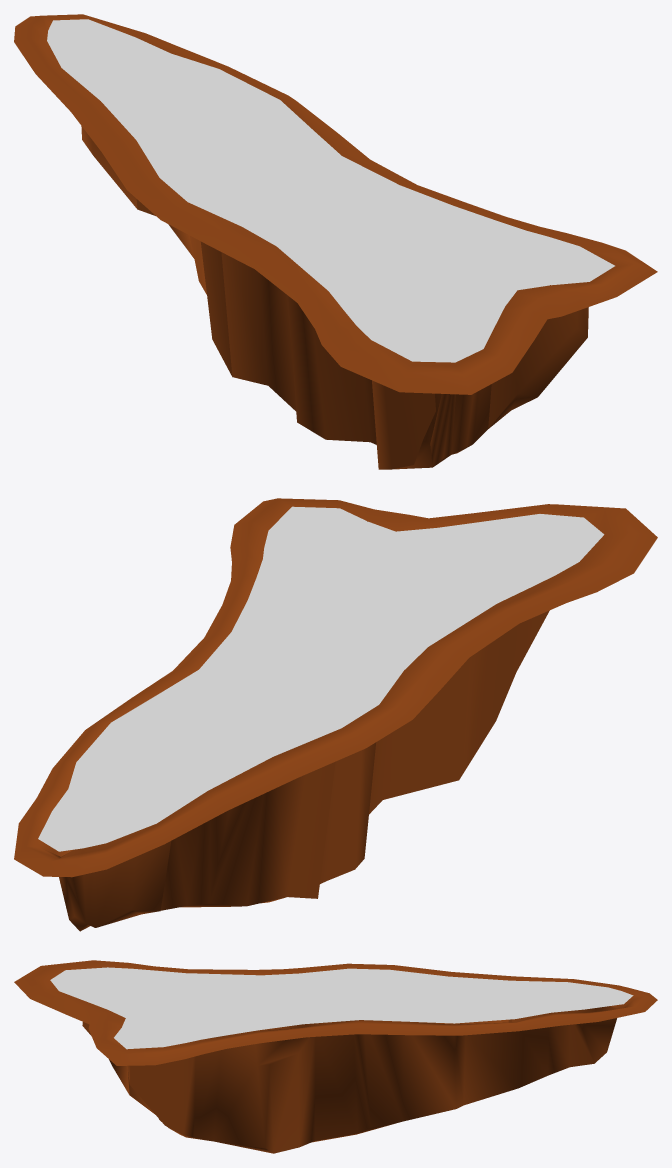
The model's file is SM_Valley.fbx.
The picture shows the model from 3 angles, top to bottom: view 1: azimuth 30°, elevation 25°; view 2: azimuth 150°, elevation 25°; view 3: azimuth 270°, elevation 25°; orthographic projection. The views are drawn at different scales.
Parts seen in each view (by area): view 1: Hole, Mesh; view 2: Mesh, Hole; view 3: Mesh, Hole.
Part boxes in pixels (x1,y1,x2,y2): Hole: (47, 19, 614, 362); Mesh: (14, 14, 657, 469); Mesh: (14, 498, 657, 931); Hole: (38, 506, 604, 851); Mesh: (14, 960, 657, 1153); Hole: (50, 967, 633, 1049).
Size of the model in its own units: 97.86 by 61.49 by 252.
